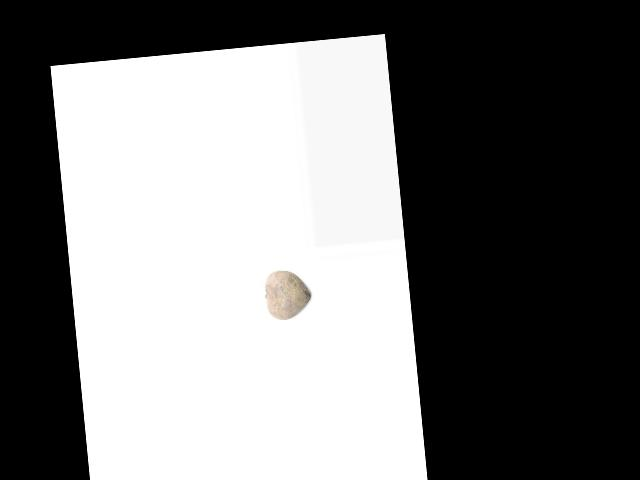beet: (263, 267, 313, 321)
